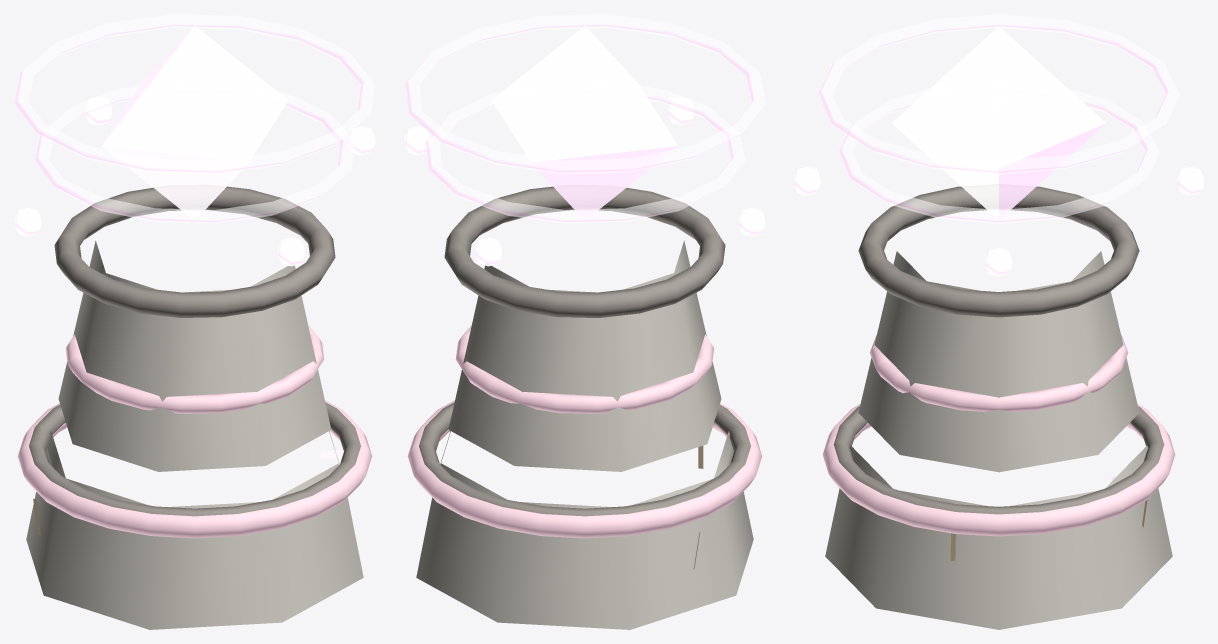
File: tower_amp_2.glb
The picture shows the model from 3 angles, left to right: view 1: azimuth 30°, elevation 25°; view 2: azimuth 150°, elevation 25°; view 3: azimuth 270°, elevation 25°; orthographic projection.
Visible parts, largest first — view 1: turret, base; view 2: turret, base; view 3: turret, base.
Boxes of the visible parts, <box> form: turret: <box>14,14,375,471</box>; base: <box>17,325,372,629</box>; turret: <box>404,14,765,471</box>; base: <box>407,325,762,629</box>; turret: <box>794,14,1203,472</box>; base: <box>822,335,1175,629</box>.
Size of the model in its own units: 3.24 by 4.58 by 3.21.
